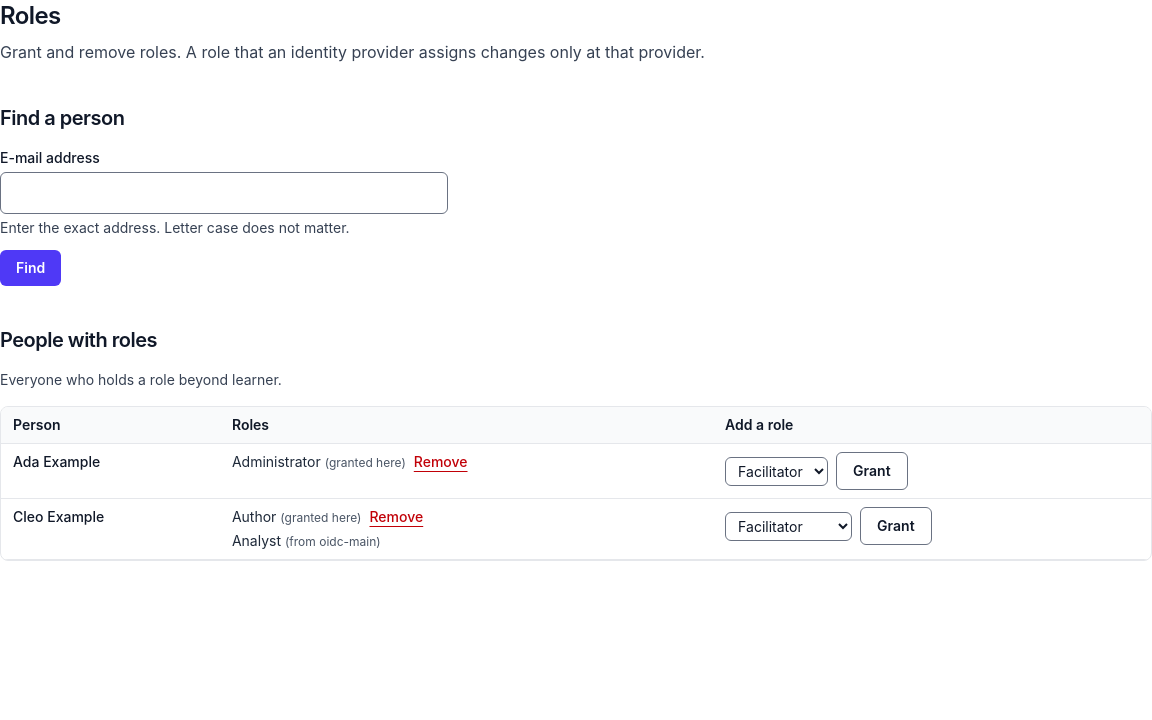
Scenario: the roles page › removes a manual grant after a confirmation
The width and height of the screenshot is (1152, 720).
Click the button with aria-label "Remove the role Author of Cleo Example" at (396, 517), box [370,507,423,527]
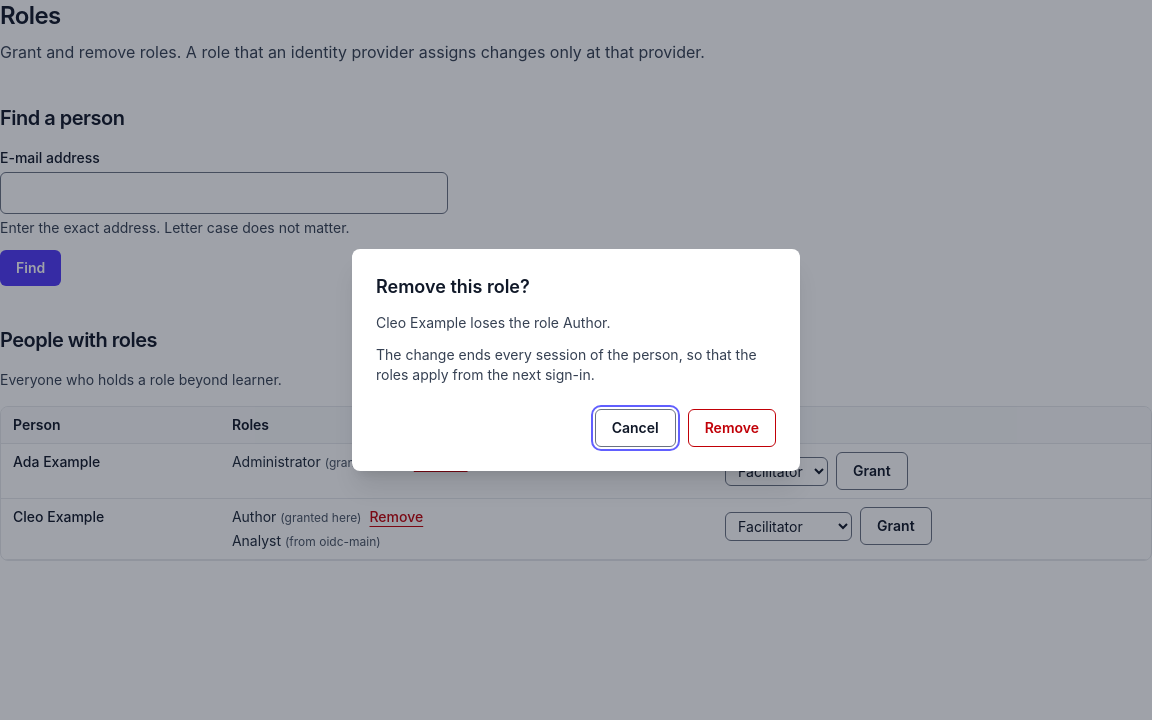
Click the button "Remove" at (732, 428), box [688,409,776,447]
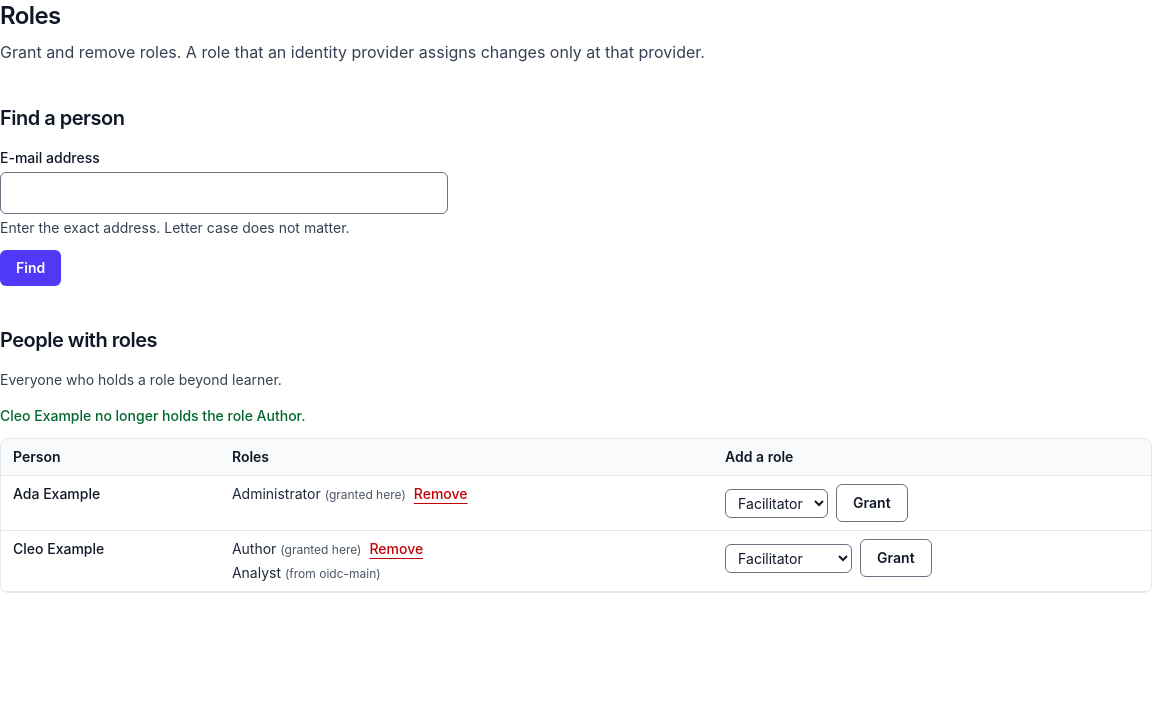
Expected: the text "Cleo Example no longer holds the role Author." is shown, [0,407,305,424]
